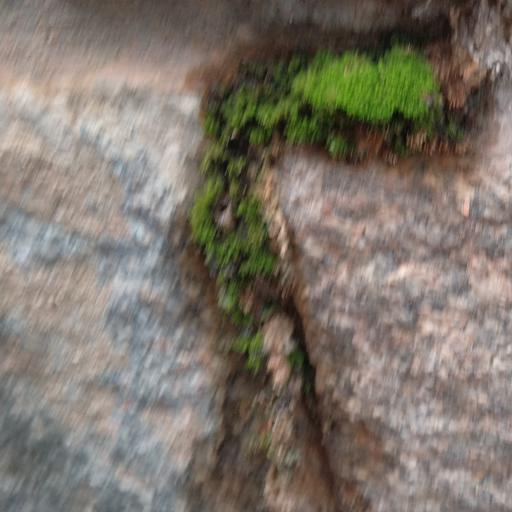algae: (170, 31, 498, 411)
